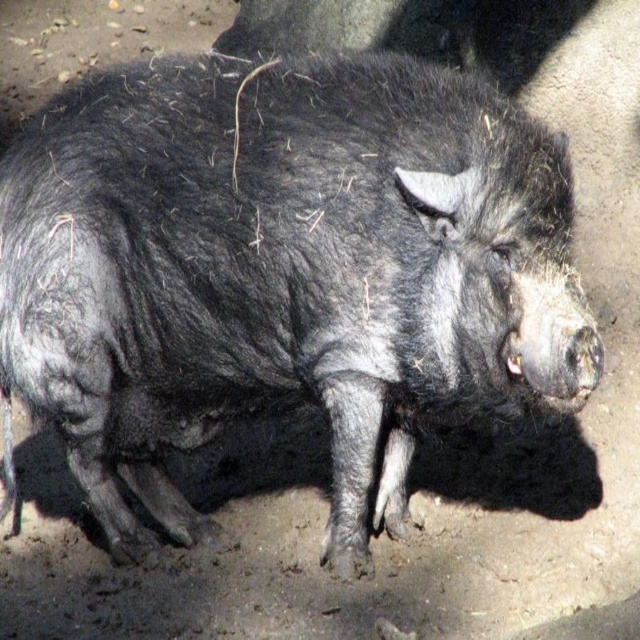Pig: (0, 43, 603, 587)
